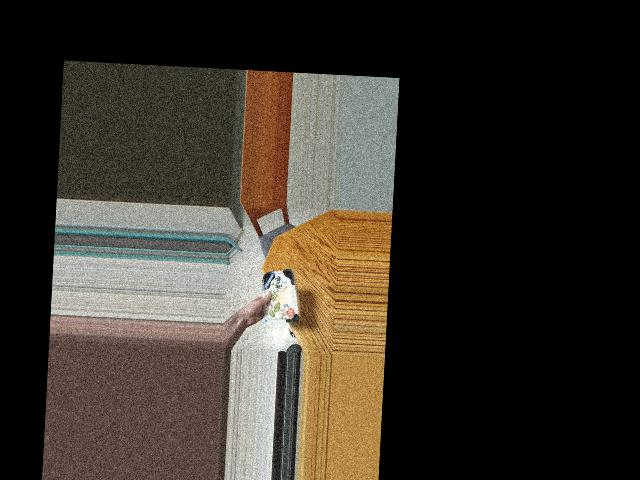cheese: (260, 266, 298, 317)
